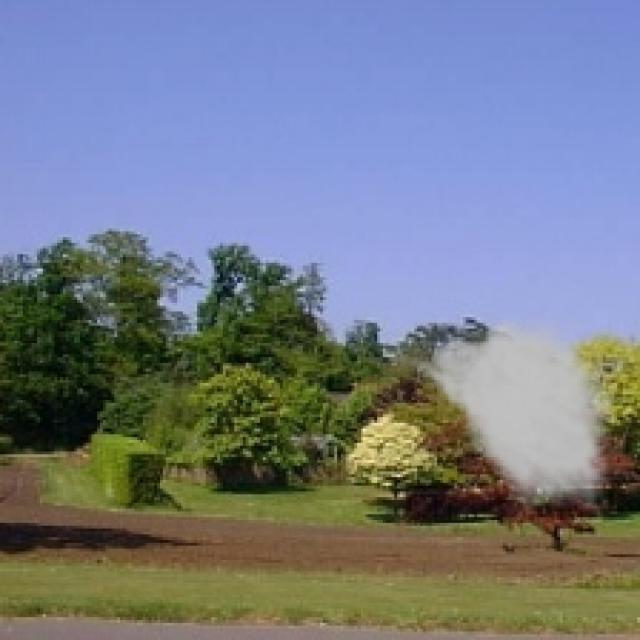smoke: (391, 312, 620, 517)
